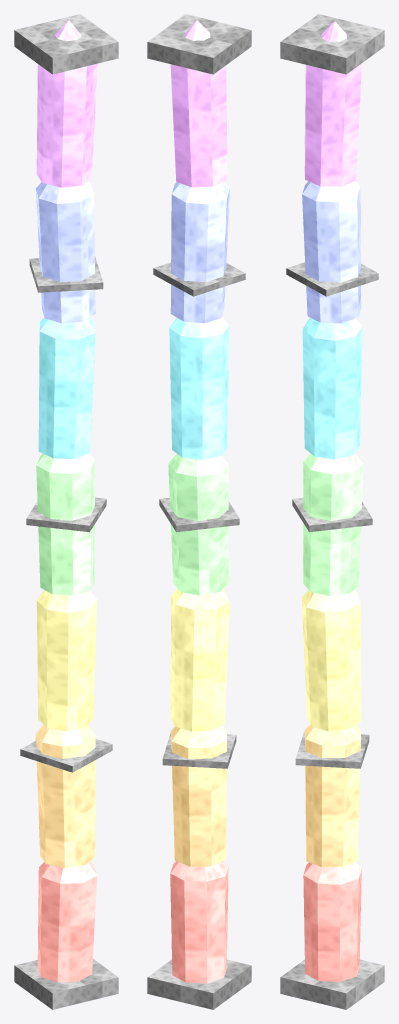
Rendered from architecture-crystal-beam-8m.glb.
3 views of the same model, side by side, from view 1: azimuth 30°, elevation 25°; view 2: azimuth 150°, elevation 25°; view 3: azimuth 330°, elevation 25° (orthographic).
Parts seen in each view (by area): view 1: segment-2, segment-4, segment-1, segment-3, segment-6, segment-5, segment-0, top-collar, base-collar, brace-1, brace-3, brace-2; view 2: segment-4, segment-2, segment-3, segment-5, segment-1, segment-6, segment-0, top-collar, base-collar, brace-3, brace-2, brace-1; view 3: segment-4, segment-2, segment-3, segment-5, segment-1, segment-6, segment-0, top-collar, base-collar, brace-3, brace-2, brace-1.
Part boxes in pixels (x1=…): segment-2: x1=36, y1=590, x2=96, y2=731; segment-4: x1=38, y1=317, x2=95, y2=458; segment-1: x1=35, y1=725, x2=95, y2=867; segment-3: x1=36, y1=453, x2=95, y2=595; segment-6: x1=36, y1=20, x2=97, y2=187; segment-5: x1=35, y1=181, x2=95, y2=323; segment-0: x1=37, y1=861, x2=97, y2=982; top-collar: x1=14, y1=14, x2=118, y2=74; base-collar: x1=14, y1=959, x2=118, y2=1009; brace-1: x1=20, y1=739, x2=112, y2=772; brace-3: x1=29, y1=256, x2=103, y2=292; brace-2: x1=26, y1=497, x2=106, y2=532; segment-4: x1=169, y1=317, x2=229, y2=459; segment-2: x1=170, y1=588, x2=230, y2=731; segment-3: x1=168, y1=454, x2=228, y2=595; segment-5: x1=170, y1=182, x2=229, y2=323; segment-1: x1=170, y1=725, x2=227, y2=866; segment-6: x1=170, y1=20, x2=227, y2=187; segment-0: x1=170, y1=861, x2=228, y2=983; top-collar: x1=147, y1=14, x2=251, y2=74; base-collar: x1=147, y1=959, x2=251, y2=1009; brace-3: x1=153, y1=262, x2=245, y2=296; brace-2: x1=159, y1=497, x2=239, y2=532; brace-1: x1=162, y1=732, x2=236, y2=768; segment-4: x1=302, y1=318, x2=362, y2=459; segment-2: x1=301, y1=589, x2=361, y2=731; segment-3: x1=303, y1=453, x2=363, y2=595; segment-5: x1=302, y1=181, x2=361, y2=323; segment-1: x1=304, y1=725, x2=361, y2=867; segment-6: x1=304, y1=21, x2=361, y2=186; segment-0: x1=303, y1=862, x2=361, y2=981; top-collar: x1=280, y1=14, x2=384, y2=74; base-collar: x1=280, y1=959, x2=384, y2=1009; brace-3: x1=286, y1=262, x2=378, y2=296; brace-2: x1=292, y1=497, x2=372, y2=532; brace-1: x1=295, y1=731, x2=369, y2=768.
Size of the model in its own units: 0.7071 by 8.19 by 0.7071.
8 materials, 8 textured.
